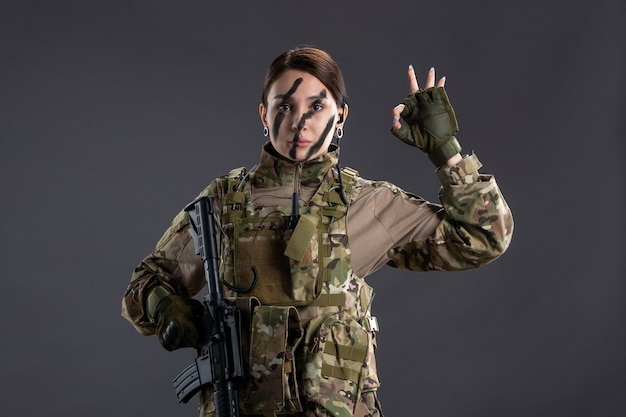gun: (173, 195, 249, 417)
